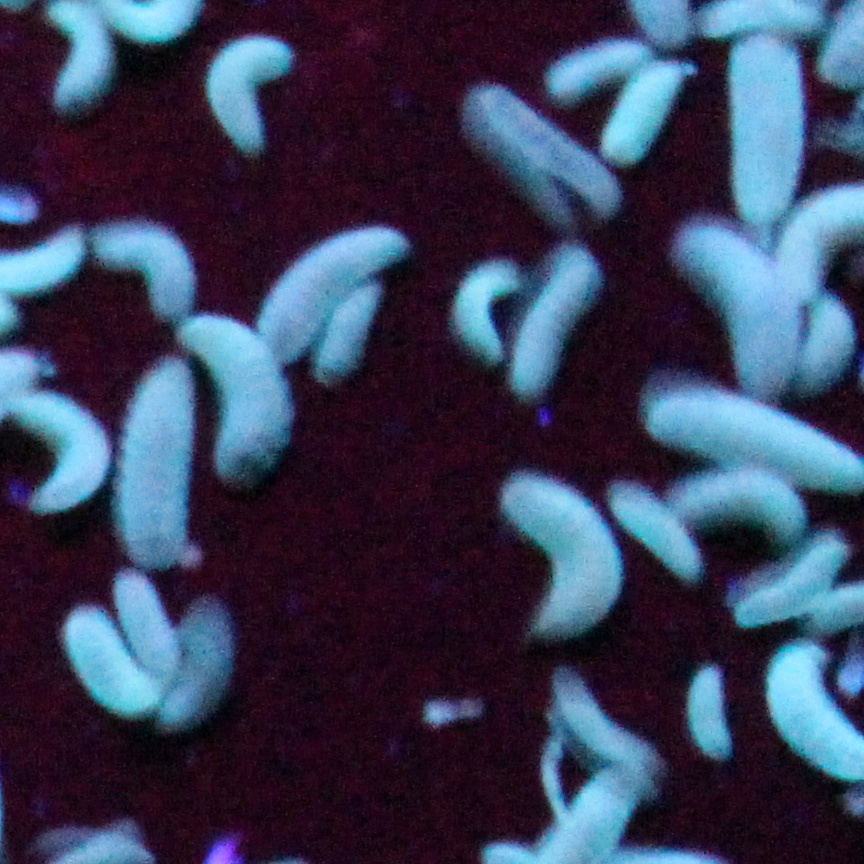larve: (495, 460, 626, 649), (466, 93, 637, 222), (676, 222, 795, 399), (176, 312, 293, 485), (262, 226, 407, 358), (120, 354, 193, 568), (728, 33, 801, 229), (512, 251, 599, 406), (14, 387, 107, 522), (549, 668, 662, 779), (201, 39, 301, 154), (62, 608, 174, 708), (609, 476, 709, 587), (672, 468, 807, 547), (95, 218, 193, 314), (737, 535, 847, 618), (605, 62, 693, 162), (162, 593, 230, 722), (45, 1, 118, 116), (109, 572, 184, 683), (316, 276, 380, 383), (549, 39, 655, 99), (451, 266, 518, 360), (797, 293, 853, 395), (687, 666, 739, 760)
